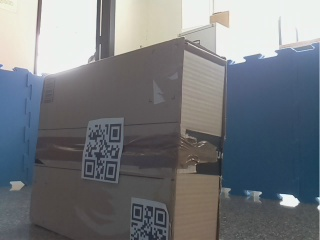caja: (31, 40, 230, 239)
